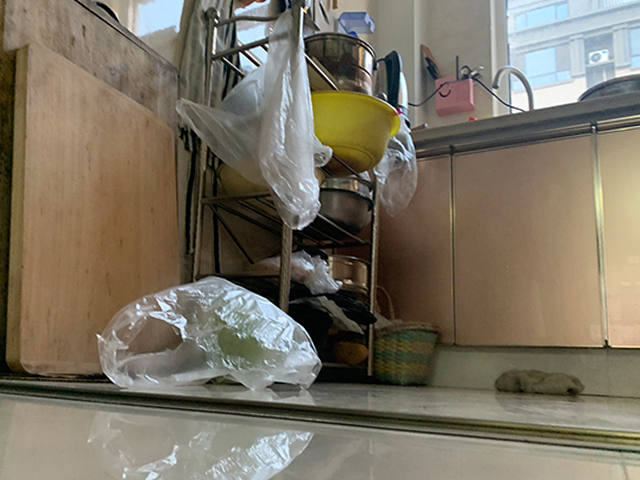cabinet: (381, 88, 640, 400)
